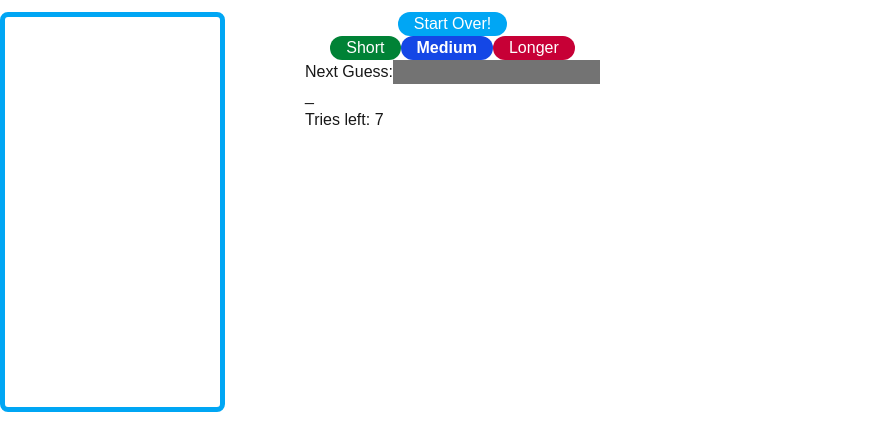
it: SnowmanGame › shows the win final state when the word is fully guessed
The image size is (871, 429).
Step 1. Type "a" into the field labelled "Next Guess:" → [496, 72], box [393, 60, 600, 84]
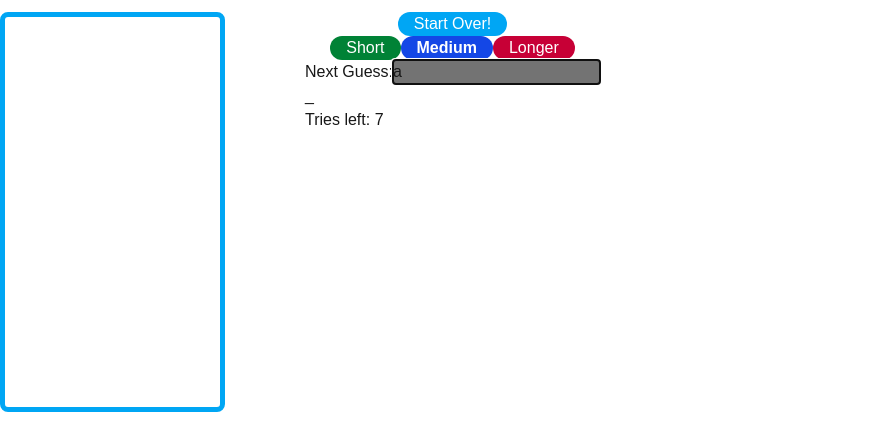
Step 2. Press Enter
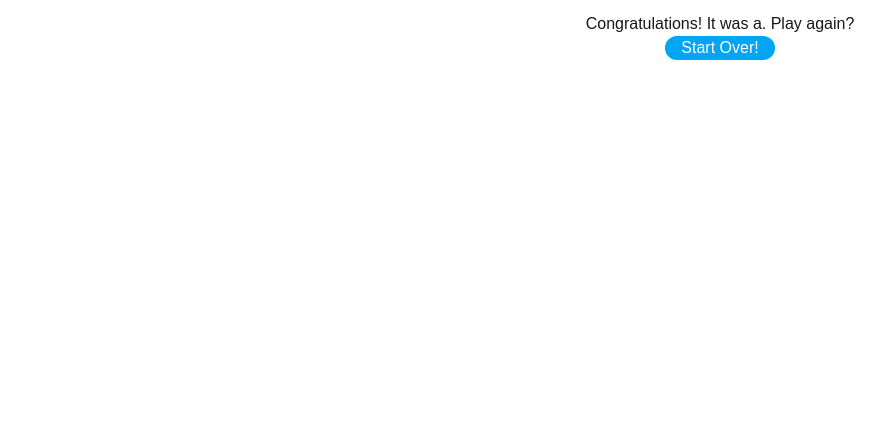
Check: the button "Start Over!" is shown, box [665, 36, 775, 60]
Check: the text "Congratulations! It was a. Play again?" is shown, box [586, 12, 854, 36]
